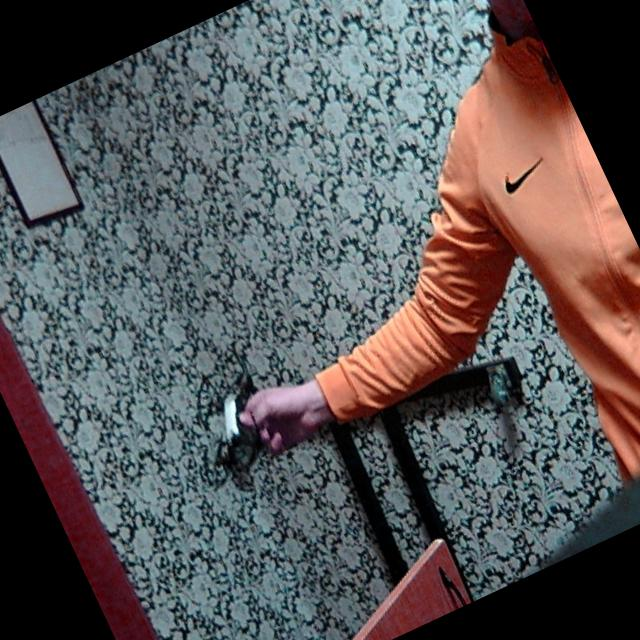drone: (148, 342, 317, 511)
